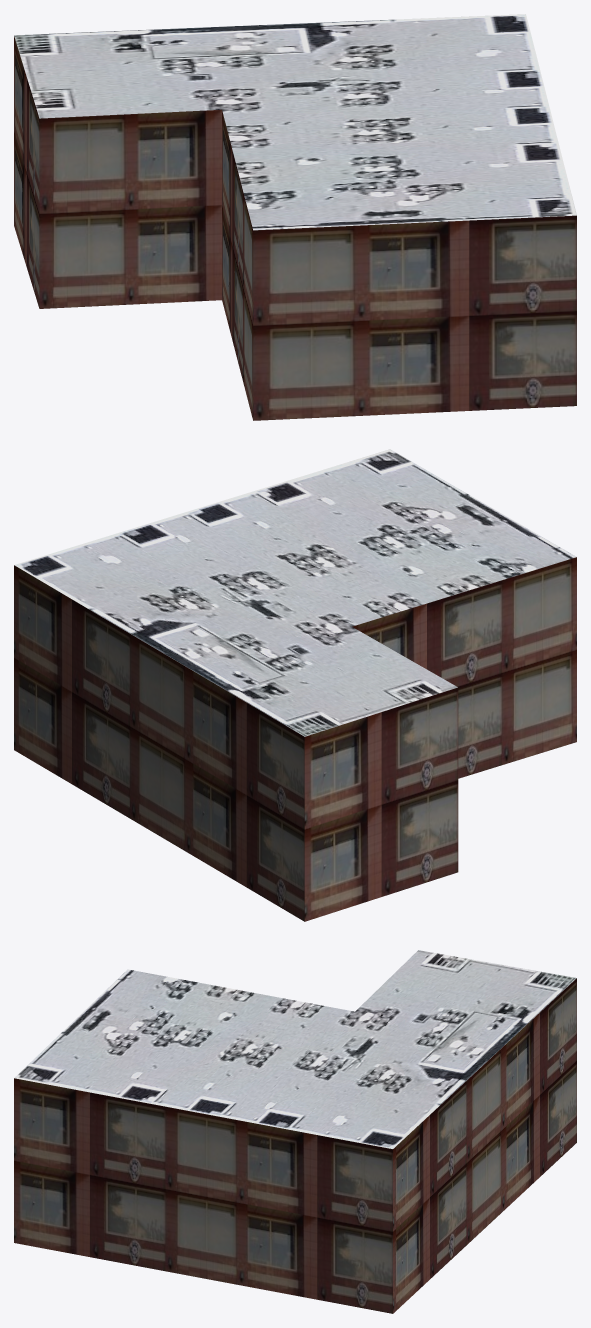
File: ResTex__2472.fbx
3 renders of one model, top to bottom at view 1: azimuth 30°, elevation 25°; view 2: azimuth 150°, elevation 25°; view 3: azimuth 270°, elevation 25°, orthographic. The views are drawn at different scales.
Visible parts, largest first — view 1: CityEngineMaterial_13_m, CityEngineMaterial_2_m; view 2: CityEngineMaterial_13_m, CityEngineMaterial_2_m; view 3: CityEngineMaterial_13_m, CityEngineMaterial_2_m.
Boxes of the visible parts, x1=… form: CityEngineMaterial_13_m: x1=14, y1=36, x2=576, y2=420; CityEngineMaterial_2_m: x1=14, y1=14, x2=576, y2=230; CityEngineMaterial_13_m: x1=14, y1=557, x2=576, y2=921; CityEngineMaterial_2_m: x1=14, y1=449, x2=576, y2=736; CityEngineMaterial_13_m: x1=14, y1=978, x2=576, y2=1313; CityEngineMaterial_2_m: x1=14, y1=950, x2=576, y2=1148.
Size of the model in its own units: 15.56 by 6 by 18.59.
2 materials, 2 textured.
